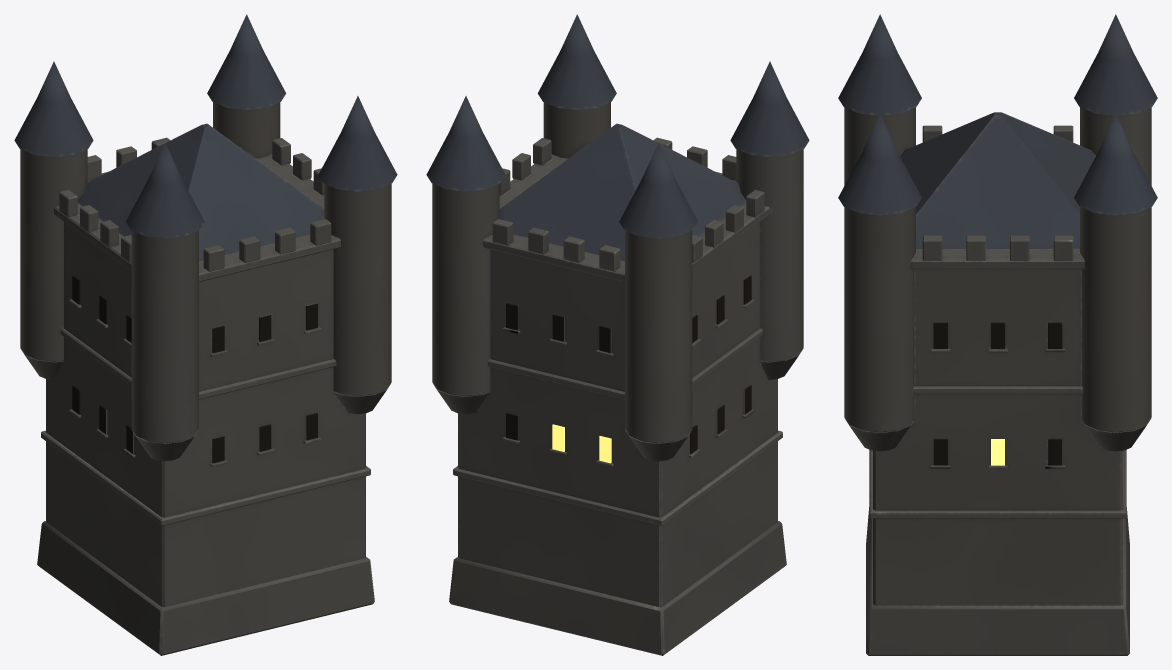
File: gallows_skyline_keep.glb
The picture shows the model from 3 angles, left to right: view 1: azimuth 30°, elevation 25°; view 2: azimuth 150°, elevation 25°; view 3: azimuth 270°, elevation 25°; orthographic projection. The views are drawn at different scales.
Parts seen in each view (by area): view 1: gallows_skyline_keep; view 2: gallows_skyline_keep, gallows_skyline_keep_glow; view 3: gallows_skyline_keep.
Boxes of the visible parts, x1,y1,x2,y2 form: gallows_skyline_keep: (14, 14, 397, 655); gallows_skyline_keep: (426, 14, 809, 655); gallows_skyline_keep_glow: (552, 424, 611, 463); gallows_skyline_keep: (838, 14, 1157, 655).
Bounding box in the file's own units: 17.9 × 33.2 × 17.9.
Materials: 2 (1 with a texture image).
